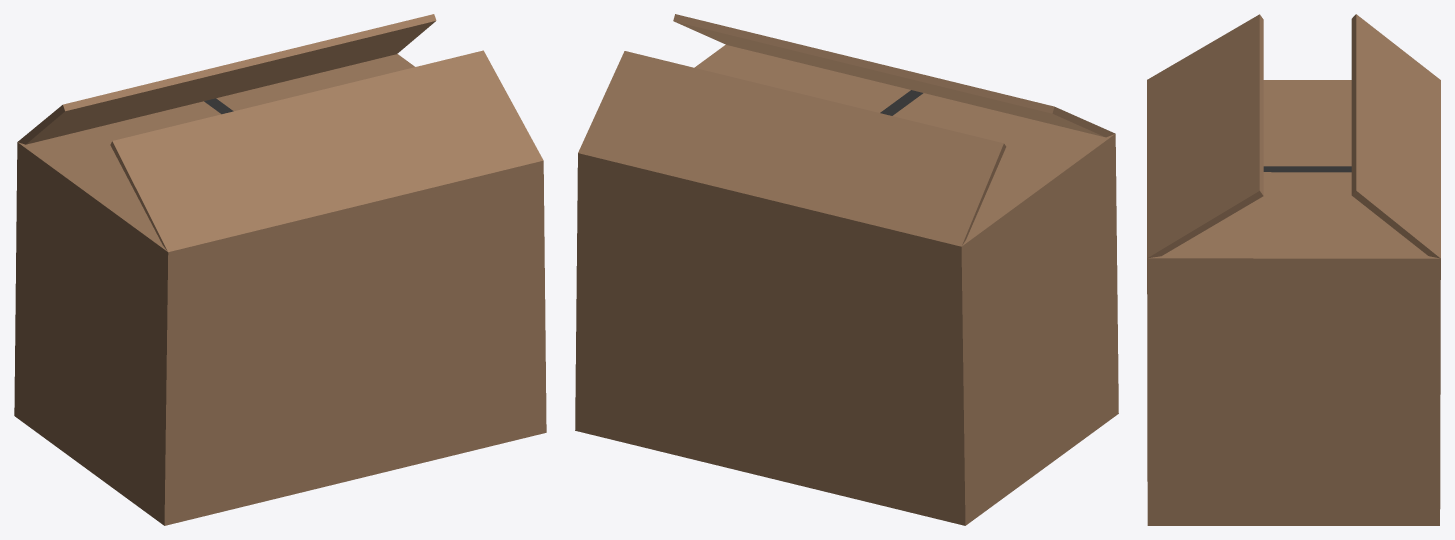
3 views of the same model, side by side, from view 1: azimuth 30°, elevation 25°; view 2: azimuth 150°, elevation 25°; view 3: azimuth 270°, elevation 25° (orthographic). The views are drawn at different scales.
Parts seen in each view (by area): view 1: Box1; view 2: Box1; view 3: Box1.
Part boxes in pixels (<box>): Box1: <box>14,14,546,525</box>; Box1: <box>575,14,1118,525</box>; Box1: <box>1147,14,1440,525</box>.
Bounding box in the file's own units: 15.51 × 10.61 × 13.26.
